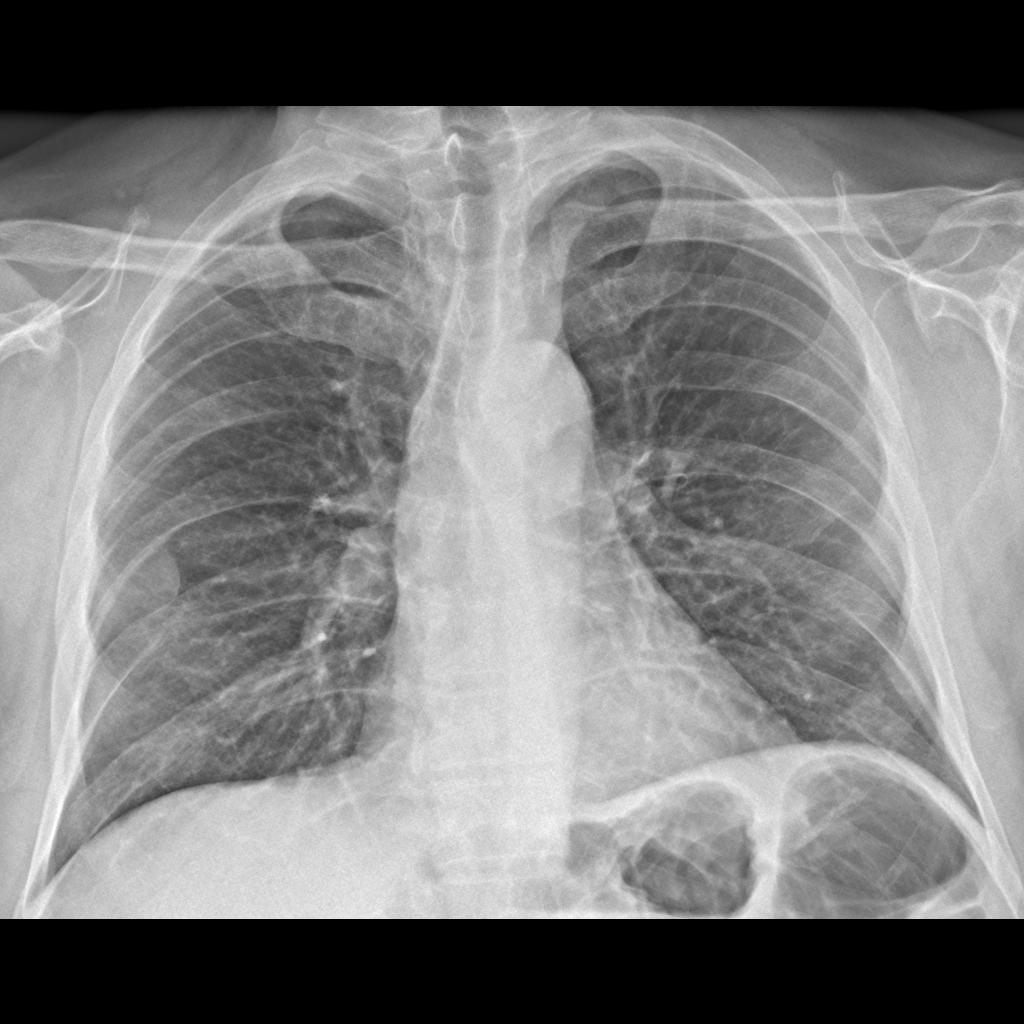Nodule: (95, 525, 194, 645)
